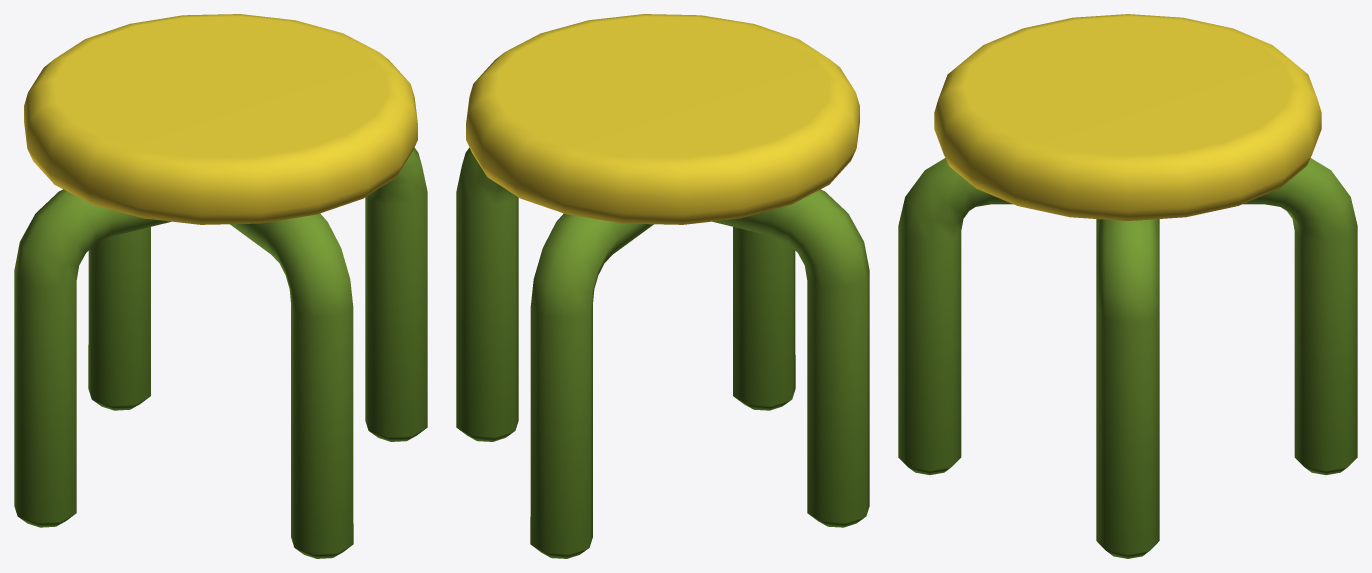
File: Chair_19.glb
The picture shows the model from 3 angles, left to right: view 1: azimuth 30°, elevation 25°; view 2: azimuth 150°, elevation 25°; view 3: azimuth 270°, elevation 25°; orthographic projection. The views are drawn at different scales.
Visible parts, largest first — view 1: Chair_19; view 2: Chair_19; view 3: Chair_19.
Part boxes in pixels (x1=…): Chair_19: x1=14, y1=14, x2=427, y2=558; Chair_19: x1=456, y1=14, x2=869, y2=558; Chair_19: x1=898, y1=14, x2=1357, y2=558.
Bounding box in the file's own units: 0.4925 × 0.45 × 0.4925.
Materials: 1 (1 with a texture image).
